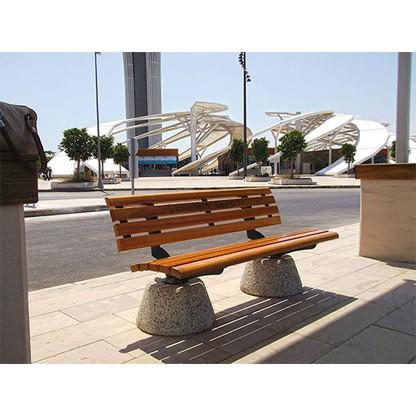obstacle: (85, 181, 345, 294)
